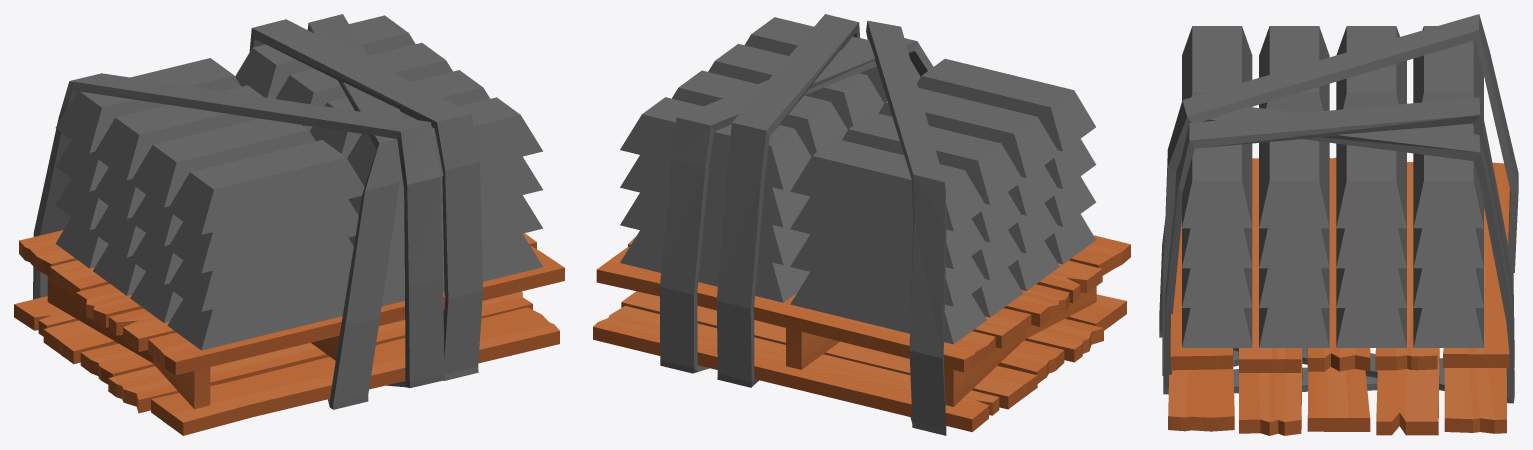
File: SM_IngotPile.fbx
3 renders of one model, left to right at view 1: azimuth 30°, elevation 25°; view 2: azimuth 150°, elevation 25°; view 3: azimuth 270°, elevation 25°, orthographic. The views are drawn at different scales.
Visible parts, largest first — view 1: Box098; view 2: Box098; view 3: Box098.
Boxes of the visible parts, bbox=[...] form: Box098: bbox=[14, 14, 564, 435]; Box098: bbox=[593, 14, 1130, 435]; Box098: bbox=[1159, 14, 1518, 435].
Size of the model in its own units: 2.19 by 1.35 by 1.64.
1 material, 1 textured.
